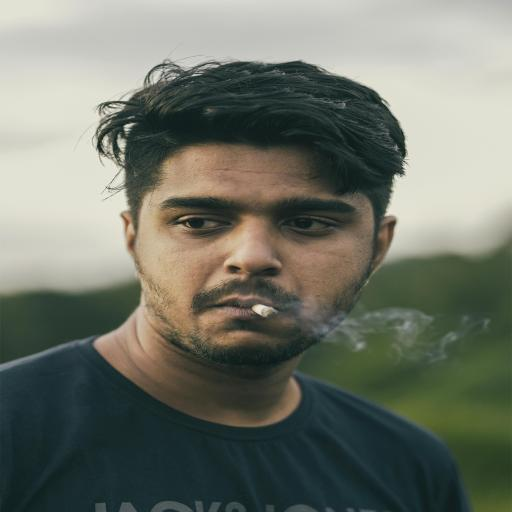terdeteksi merokok: (157, 170, 328, 349)
